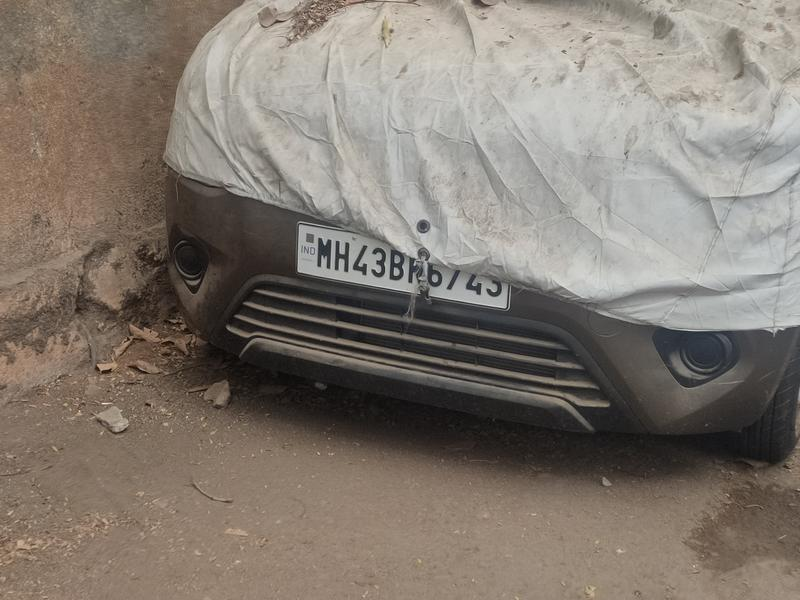license_plate: (288, 218, 521, 319)
